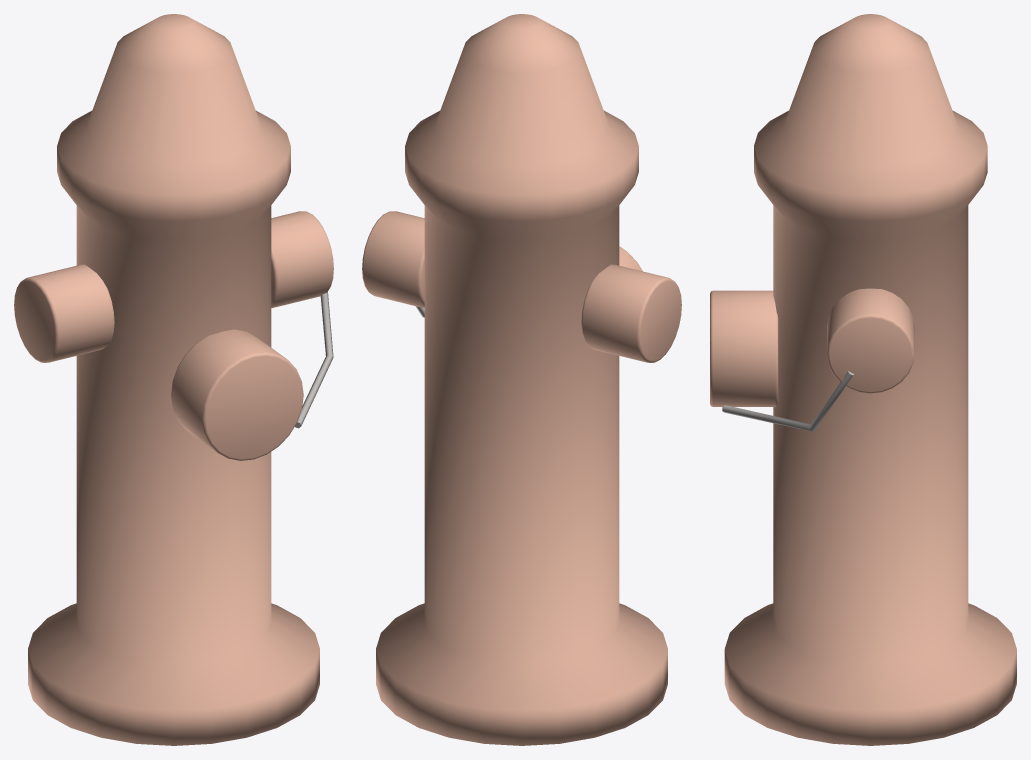
File: fire_hydrant.glb
3 views of the same model, side by side, from view 1: azimuth 30°, elevation 25°; view 2: azimuth 150°, elevation 25°; view 3: azimuth 270°, elevation 25° (orthographic).
Visible parts, largest first — view 1: fire_hydrant_aged, fire_hydrant_cap_03_aged, fire_hydrant_cap_02_aged, fire_hydrant_cap_01_aged, fire_hydrant_chain_aged; view 2: fire_hydrant_aged, fire_hydrant_cap_02_aged, fire_hydrant_cap_01_aged; view 3: fire_hydrant_aged, fire_hydrant_cap_03_aged, fire_hydrant_cap_01_aged, fire_hydrant_chain_aged.
Boxes of the visible parts, x1=… form: fire_hydrant_aged: x1=28, y1=14, x2=319, y2=745; fire_hydrant_cap_03_aged: x1=171, y1=329, x2=303, y2=460; fire_hydrant_cap_02_aged: x1=14, y1=264, x2=114, y2=362; fire_hydrant_cap_01_aged: x1=271, y1=211, x2=333, y2=308; fire_hydrant_chain_aged: x1=295, y1=292, x2=333, y2=428; fire_hydrant_aged: x1=376, y1=14, x2=667, y2=745; fire_hydrant_cap_02_aged: x1=581, y1=264, x2=681, y2=362; fire_hydrant_cap_01_aged: x1=362, y1=211, x2=424, y2=308; fire_hydrant_aged: x1=724, y1=14, x2=1016, y2=745; fire_hydrant_cap_03_aged: x1=710, y1=290, x2=778, y2=406; fire_hydrant_cap_01_aged: x1=827, y1=288, x2=914, y2=393; fire_hydrant_chain_aged: x1=722, y1=371, x2=854, y2=431.
Size of the model in its own units: 0.3337 by 0.75 by 0.315.
